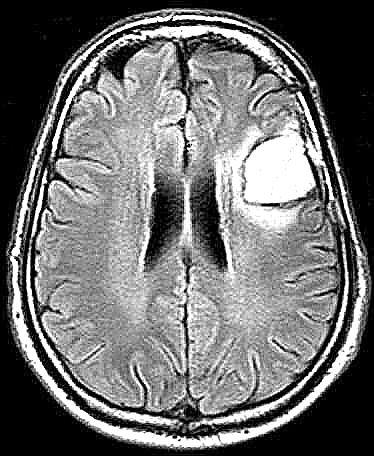Tumor: (237, 113, 328, 215)
